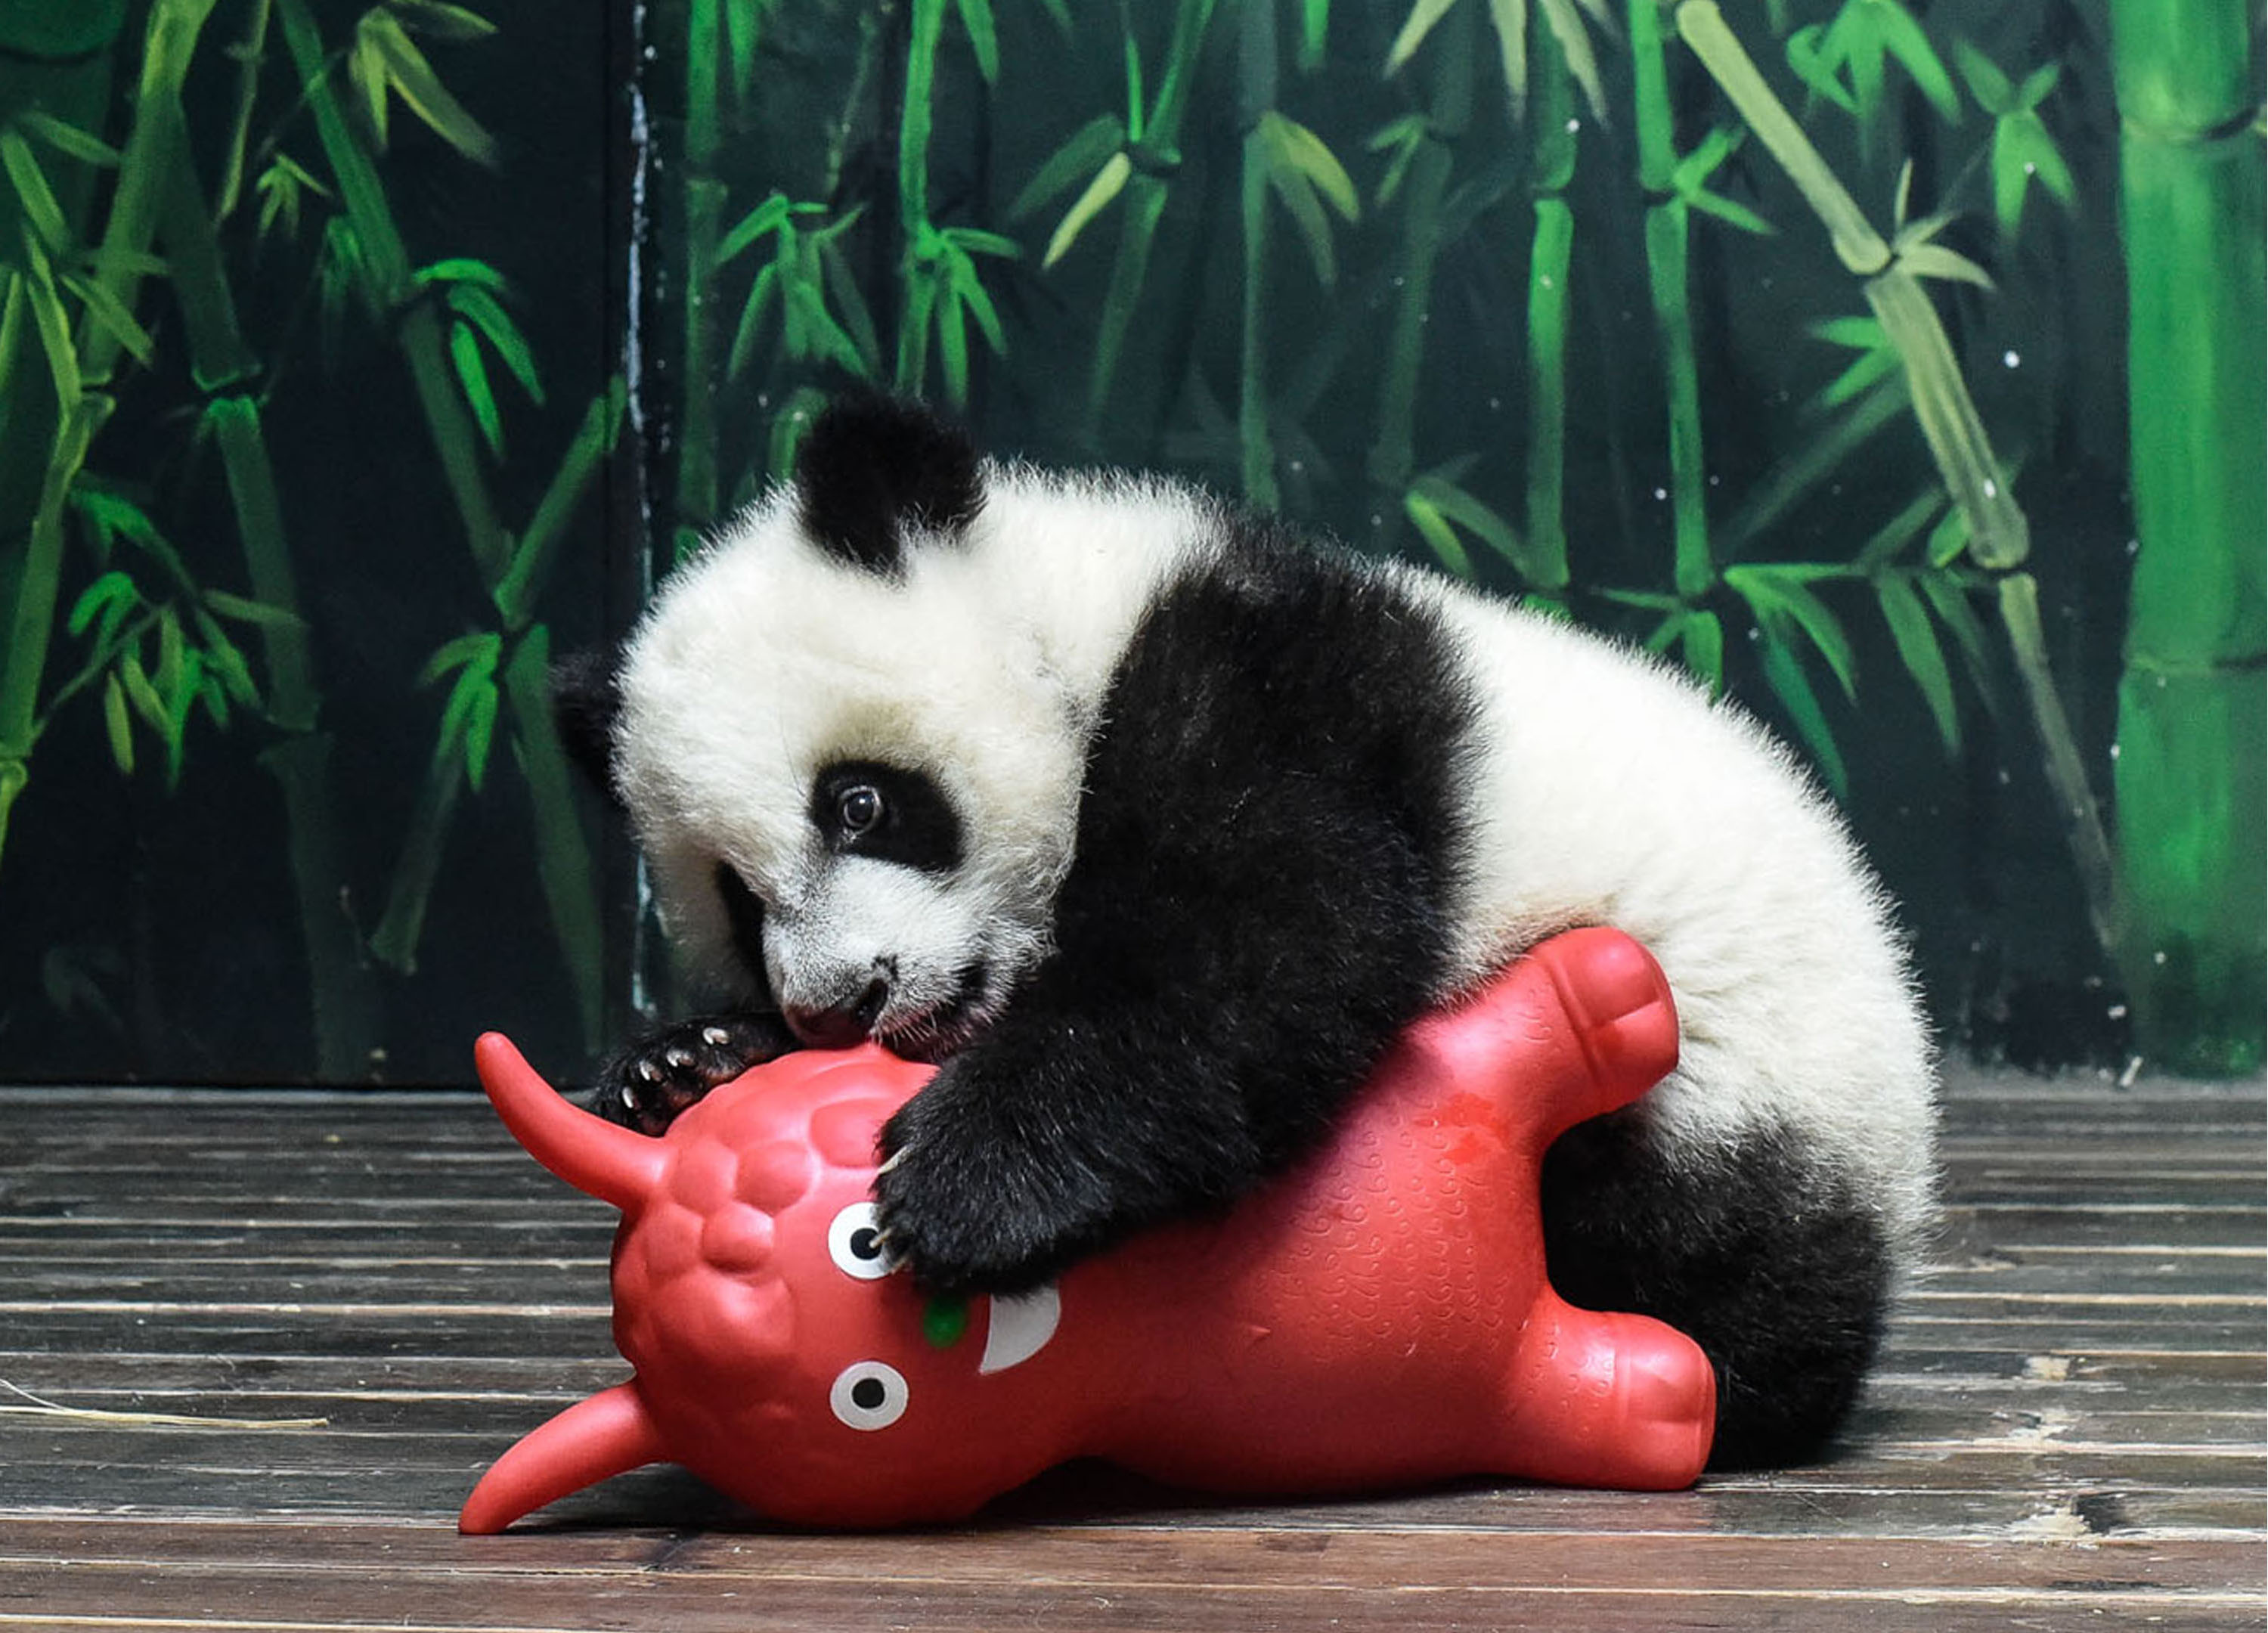panda: (530, 432, 1993, 1330)
